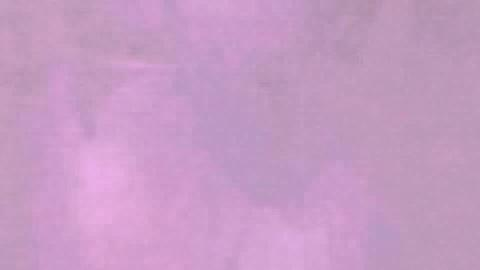tomato: (10, 119, 237, 268), (237, 135, 437, 268)
